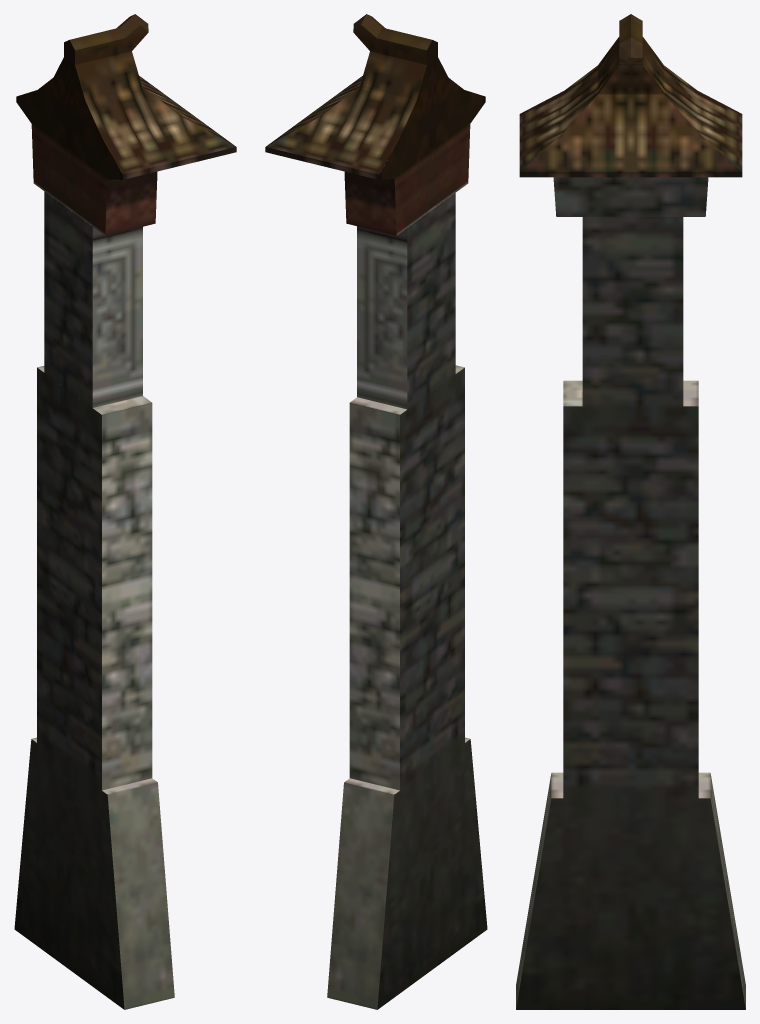
File: b1-middledam-06.glb
3 views of the same model, side by side, from view 1: azimuth 30°, elevation 25°; view 2: azimuth 150°, elevation 25°; view 3: azimuth 270°, elevation 25° (orthographic). The views are drawn at different scales.
Parts seen in each view (by area): view 1: b1-middledam-02; view 2: b1-middledam-02; view 3: b1-middledam-02.
Boxes of the visible parts, x1,y1,x2,y2 form: b1-middledam-02: (14, 14, 236, 1009); b1-middledam-02: (265, 14, 487, 1009); b1-middledam-02: (516, 14, 745, 1009).
Size of the model in its own units: 1.01 by 8.01 by 1.7.
Materials: 1 (1 with a texture image).
